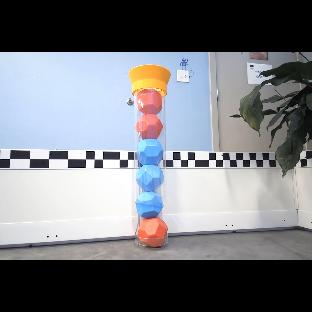Loader: (129, 64, 170, 248)
V5_BLUE: (135, 191, 165, 217), (137, 139, 164, 164), (137, 165, 163, 189)
V5_RED: (137, 217, 168, 247), (135, 114, 163, 138), (136, 88, 162, 113)
